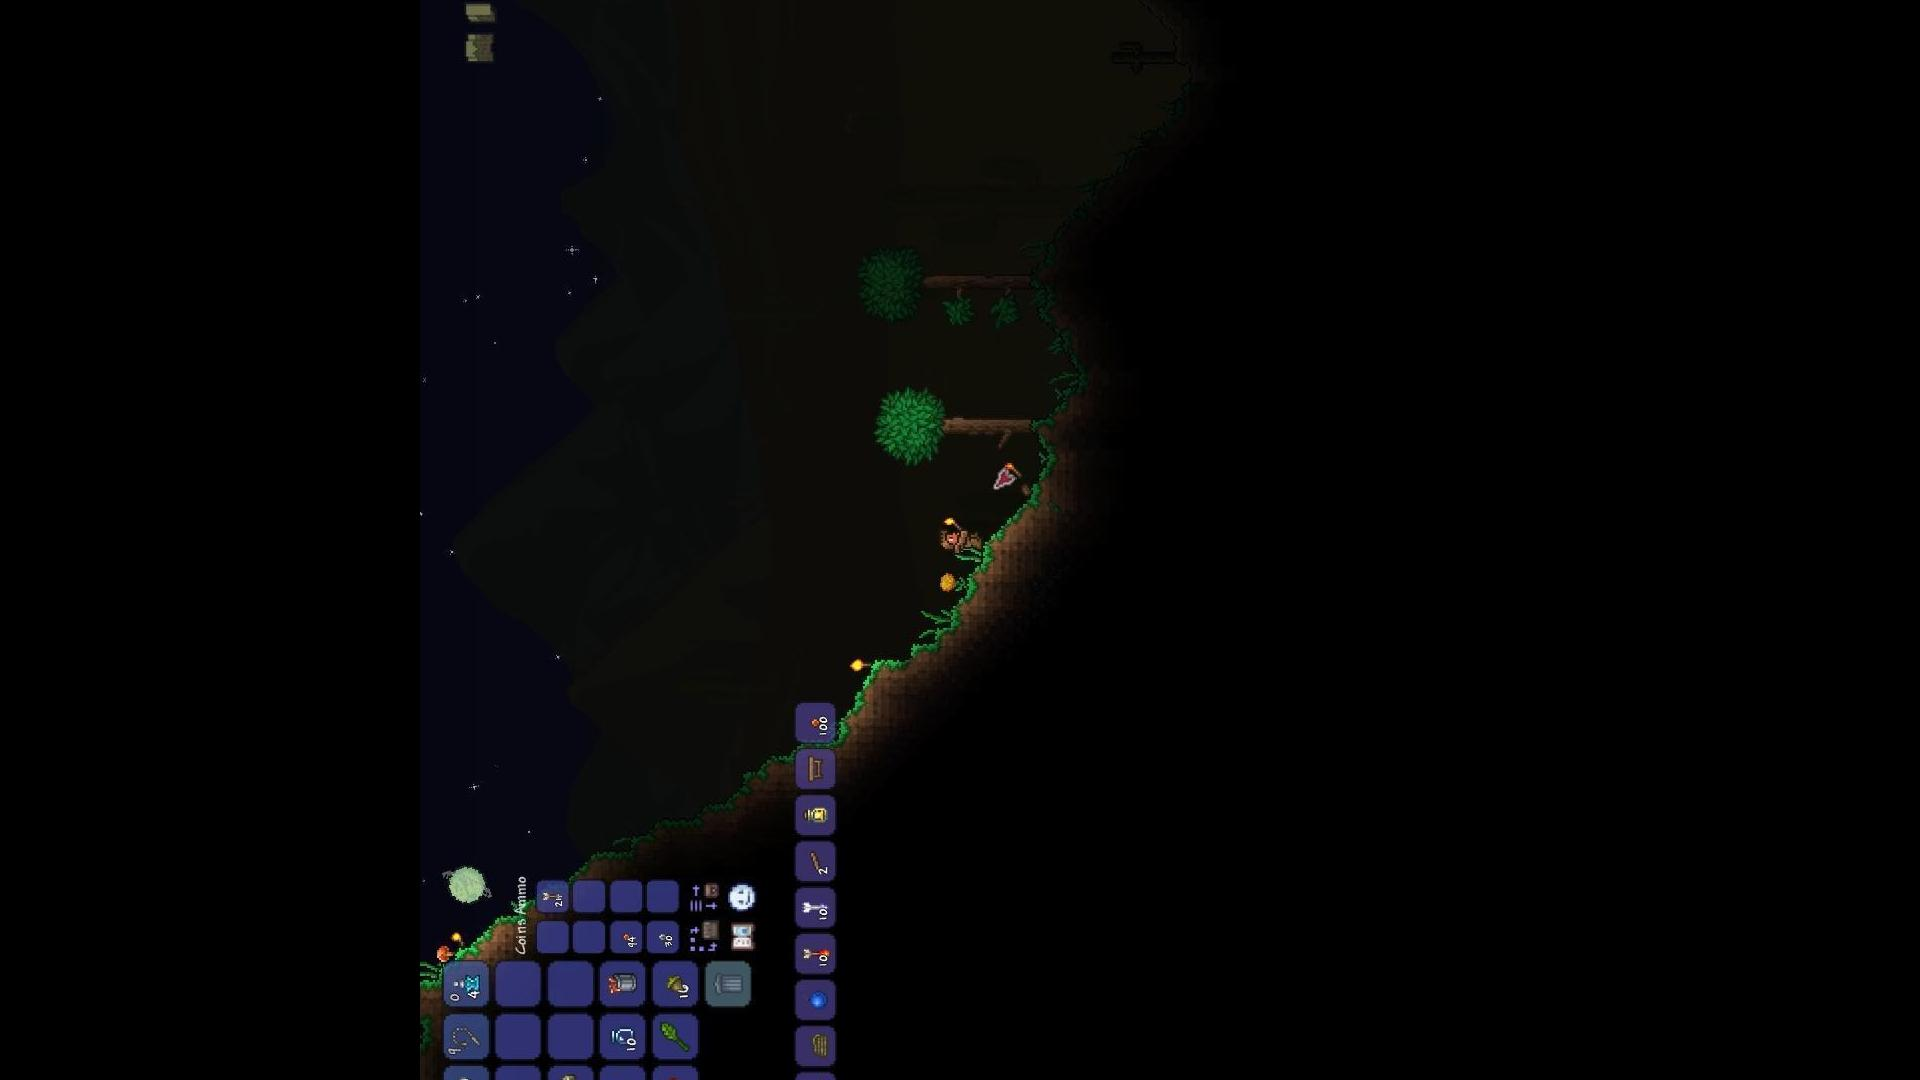arrow: (798, 899, 828, 915), (798, 945, 828, 959)
platform: (807, 851, 822, 872)
workbench: (803, 753, 823, 785)
